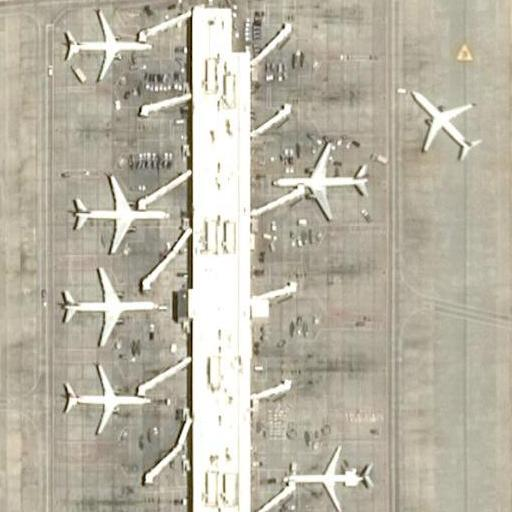Aircraft: (51, 344, 151, 435), (58, 255, 158, 345), (272, 133, 370, 221), (70, 169, 164, 249), (61, 2, 154, 77), (283, 441, 374, 511), (405, 82, 484, 162)
